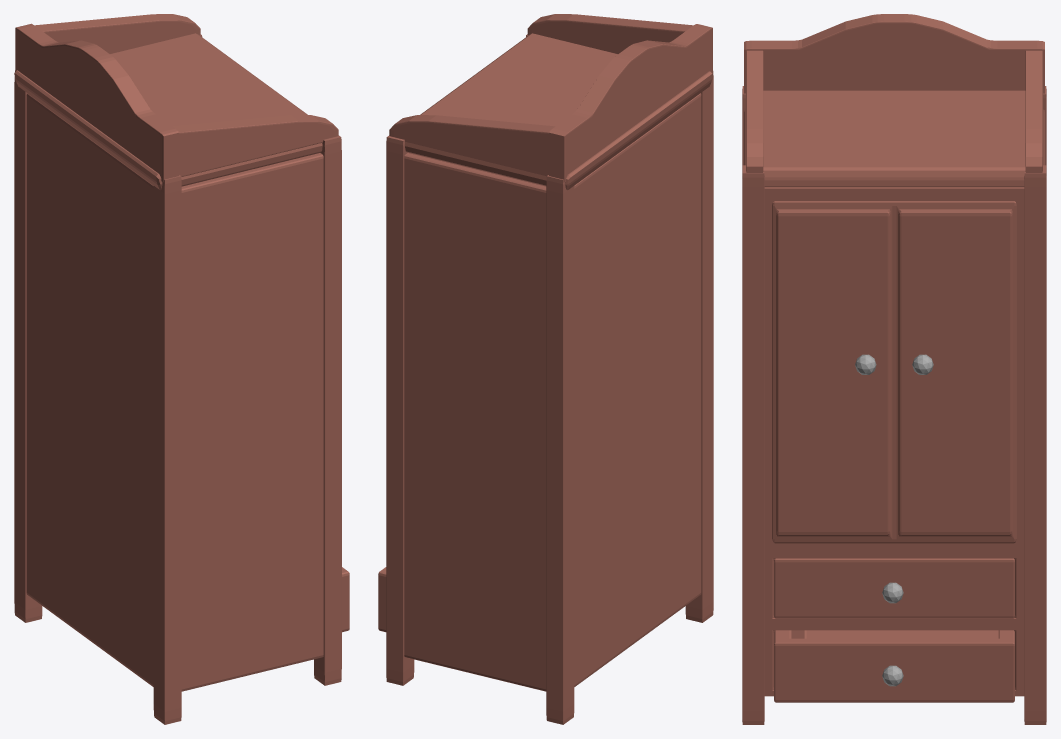
Rendered from Wardrobe_1.glb.
3 views of the same model, side by side, from view 1: azimuth 30°, elevation 25°; view 2: azimuth 150°, elevation 25°; view 3: azimuth 270°, elevation 25° (orthographic).
Visible parts, largest first — view 1: Wardrobe_1; view 2: Wardrobe_1; view 3: Wardrobe_1.
Part boxes in pixels (box(x1,y1,x2,y2)): Wardrobe_1: box(14, 14, 349, 724); Wardrobe_1: box(378, 14, 713, 724); Wardrobe_1: box(742, 14, 1046, 724).
Bounding box in the file's own units: 1.91 × 5.11 × 2.26.
